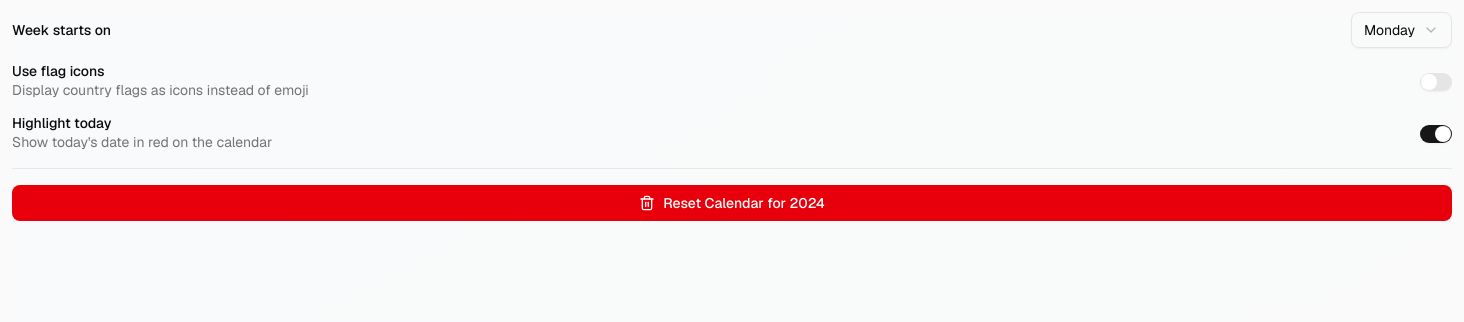
Scenario: Settings › Week starts on › should allow changing the week start day
The width and height of the screenshot is (1464, 322).
Click the dropdown: (1401, 30) [1351, 12, 1452, 48]
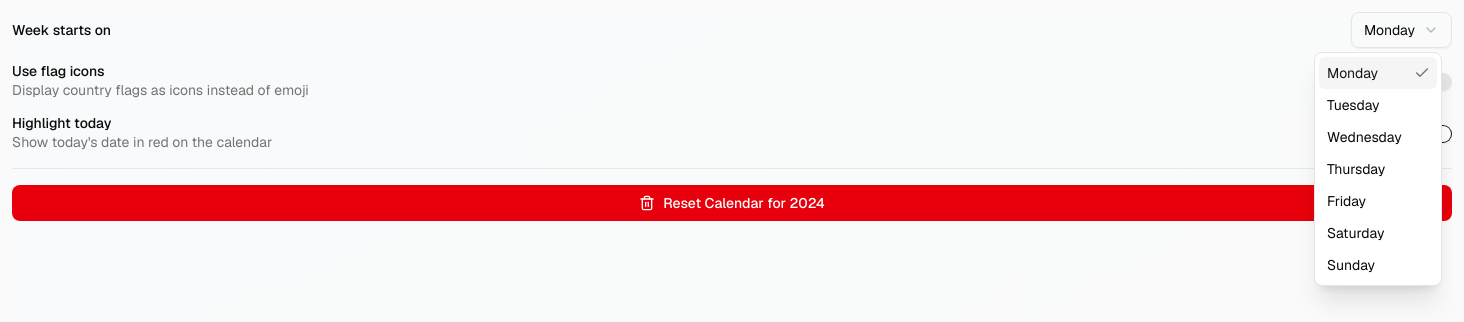
Click the option "Sunday": (1351, 265) [1327, 256, 1375, 274]
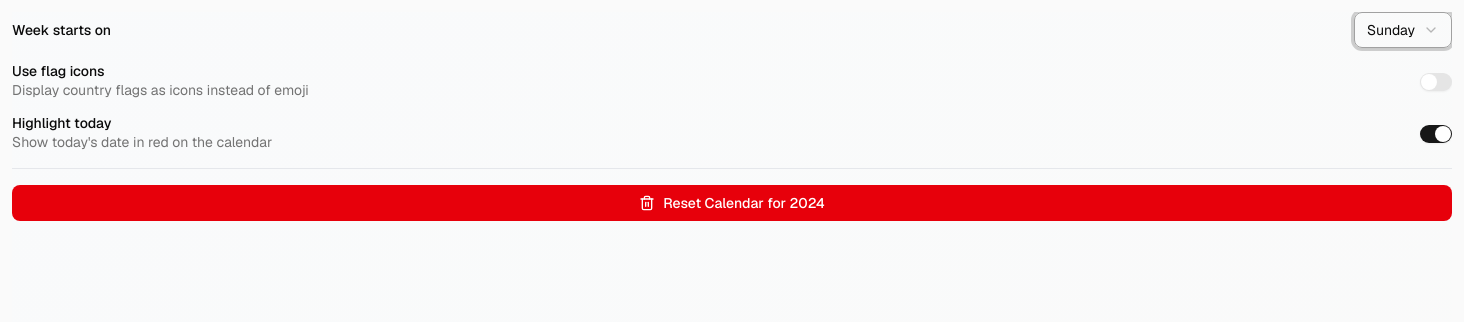
Expected: the dropdown reads "Sunday", [1354, 12, 1452, 48]
